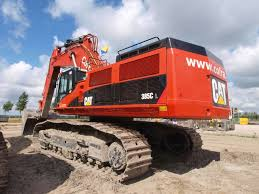excavator: (21, 23, 232, 181)
